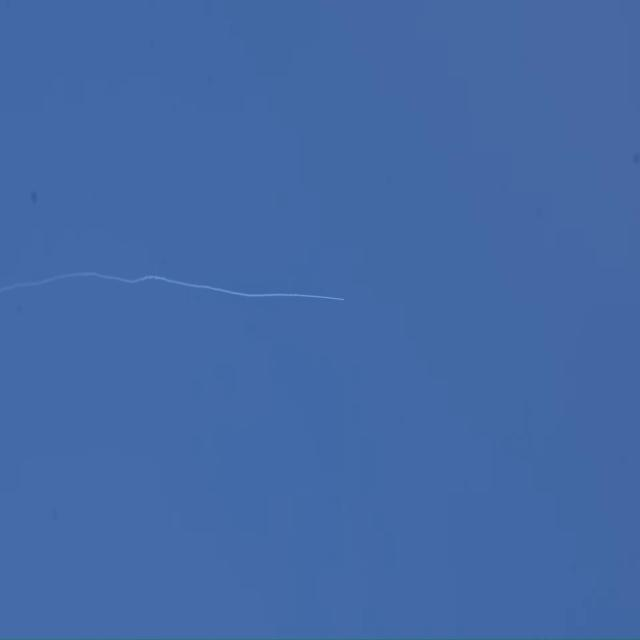Rocket: (342, 299, 344, 301)
